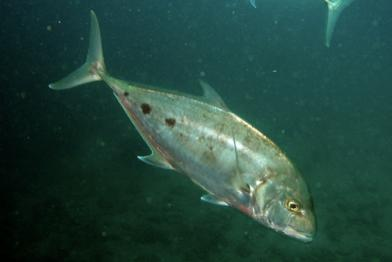Carangidae -Jacks-: (39, 3, 318, 251)
